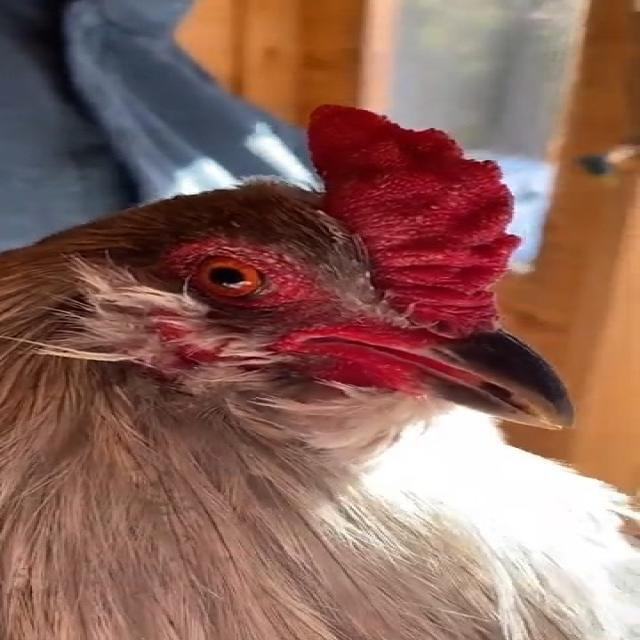Breathing: (0, 101, 638, 639)
